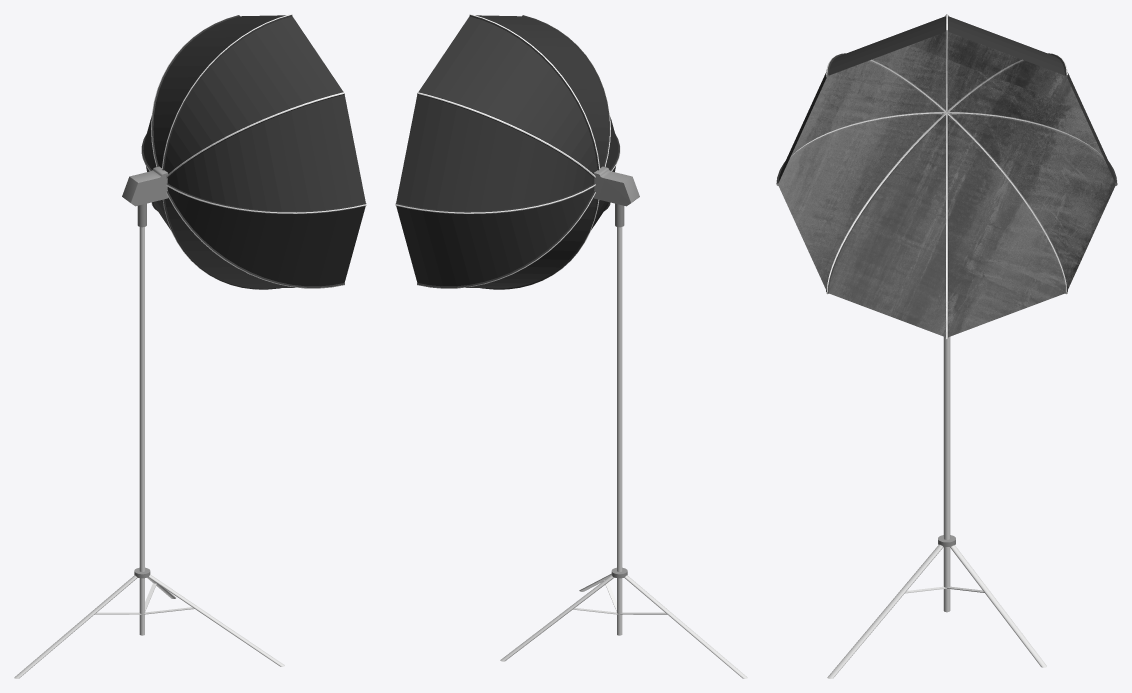
File: LightBig.glb
3 renders of one model, left to right at view 1: azimuth 30°, elevation 25°; view 2: azimuth 150°, elevation 25°; view 3: azimuth 270°, elevation 25°, orthographic. The views are drawn at different scales.
Parts seen in each view (by area): view 1: Shade, Stand, Console; view 2: Shade, Stand, Console; view 3: Shade, Stand.
Part boxes in pixels (bbox=[...]): Shade: bbox=[141, 14, 366, 289]; Stand: bbox=[14, 227, 284, 678]; Console: bbox=[122, 166, 168, 206]; Shade: bbox=[395, 14, 620, 289]; Stand: bbox=[500, 227, 747, 678]; Console: bbox=[593, 166, 639, 206]; Shade: bbox=[776, 14, 1117, 338]; Stand: bbox=[827, 337, 1046, 678].
Size of the model in its own units: 0.9383 by 1.94 by 0.8799.
6 materials, 1 textured.
